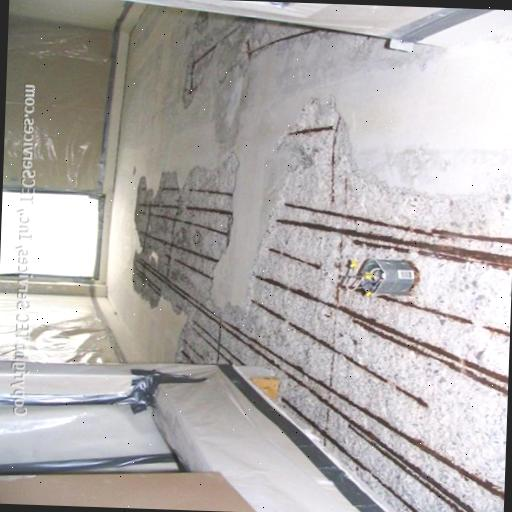spalling: (132, 97, 510, 512), (187, 16, 327, 108)
